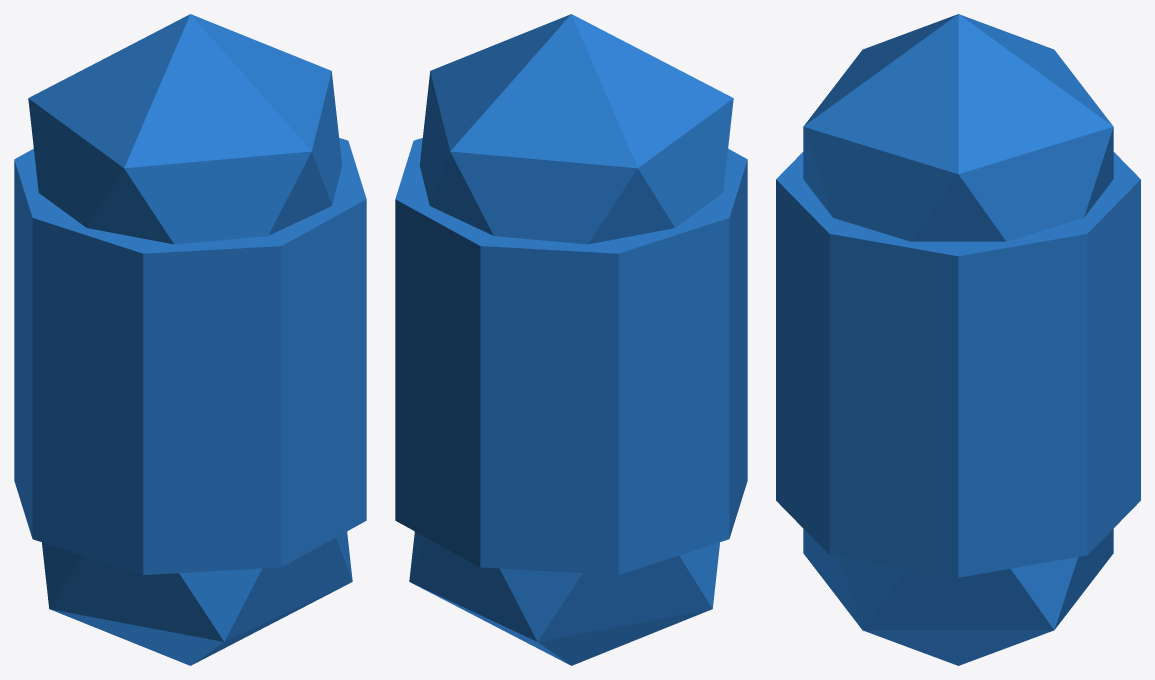
File: capsule_blue.glb
3 renders of one model, left to right at view 1: azimuth 30°, elevation 25°; view 2: azimuth 150°, elevation 25°; view 3: azimuth 270°, elevation 25°, orthographic.
Visible parts, largest first — view 1: capsule_blue; view 2: capsule_blue; view 3: capsule_blue.
Boxes of the visible parts, x1,y1,x2,y2 form: capsule_blue: (14, 14, 366, 665); capsule_blue: (395, 14, 747, 665); capsule_blue: (776, 14, 1140, 665).
Bounding box in the file's own units: 0.072 × 0.142 × 0.072.
